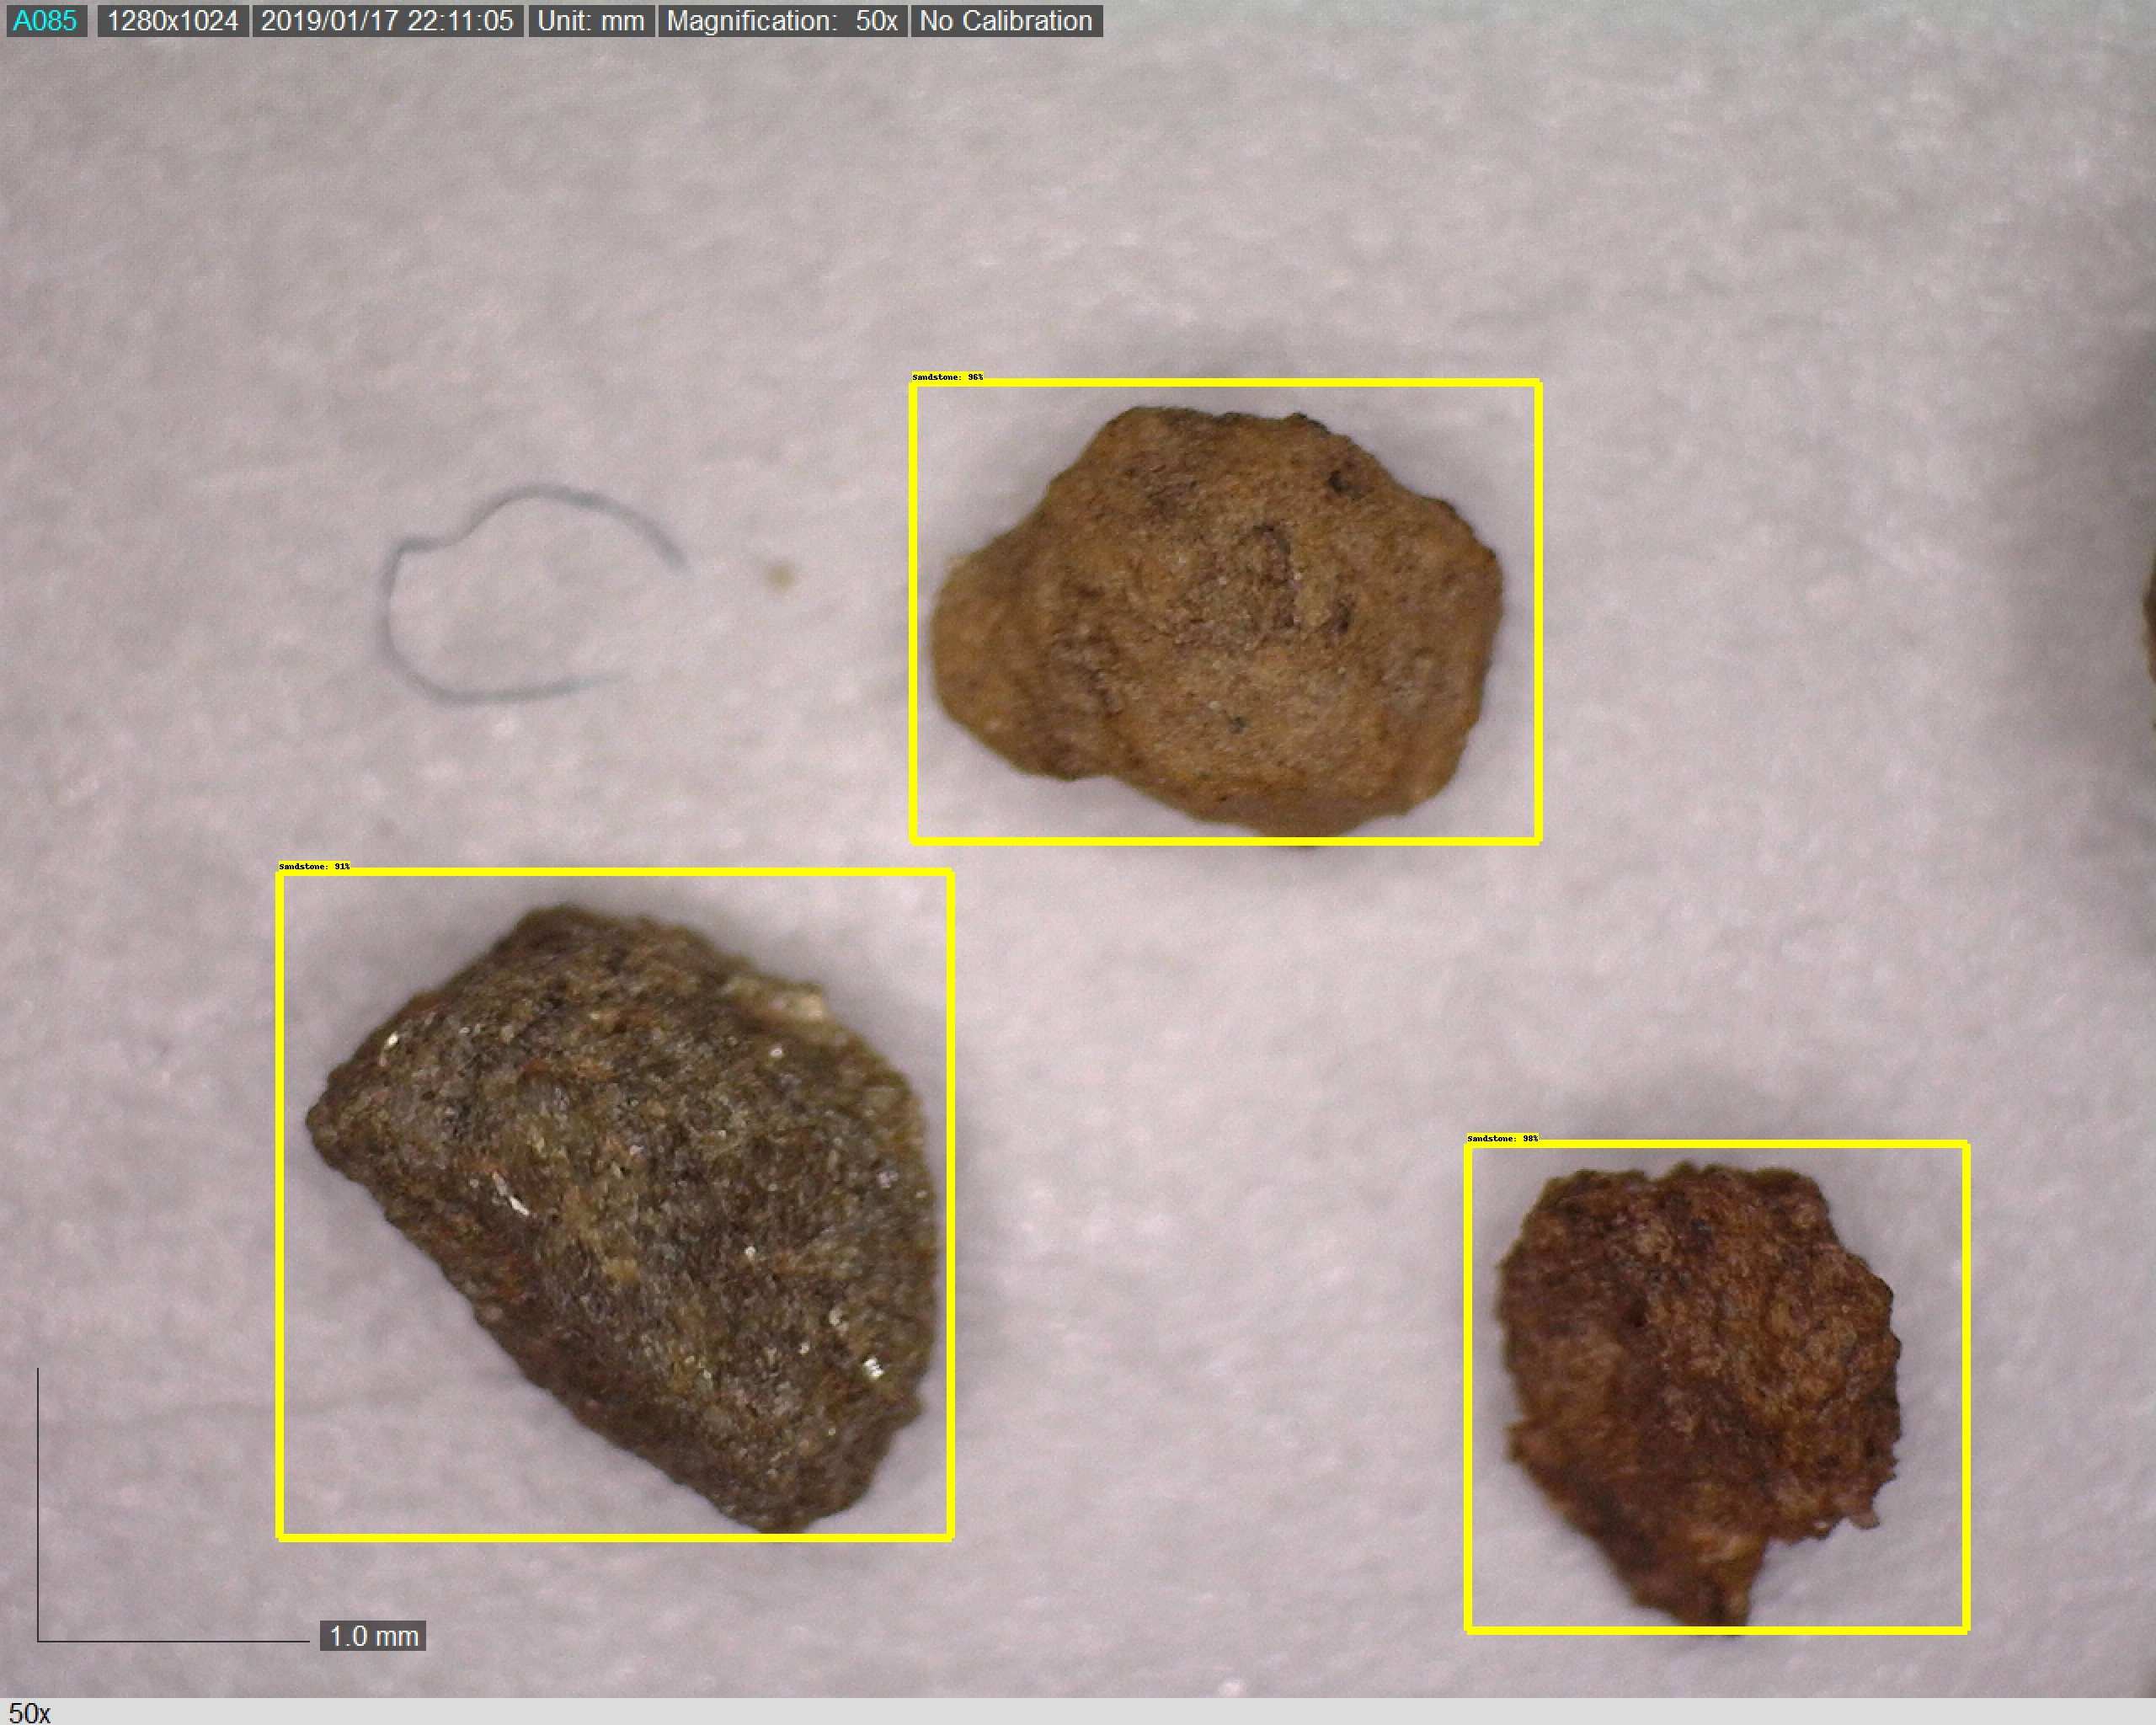Sandstone: (299, 891, 959, 1560), (1491, 1148, 1920, 1651)
